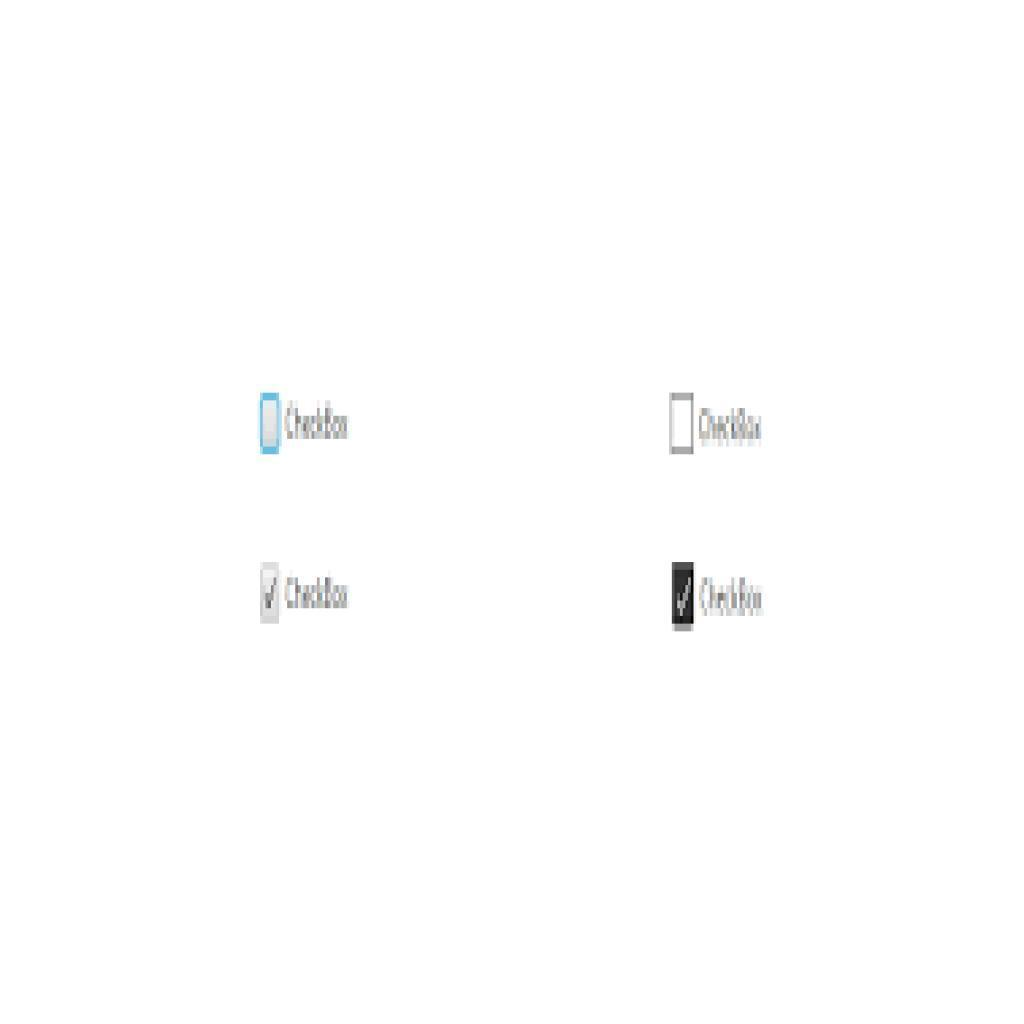checkbox: (258, 393, 284, 460), (670, 392, 695, 459), (673, 564, 698, 629), (259, 564, 284, 626)
label: (700, 575, 770, 623), (285, 401, 352, 445), (697, 405, 763, 447), (285, 575, 352, 616)
